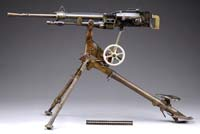rifle: (8, 8, 168, 43)
